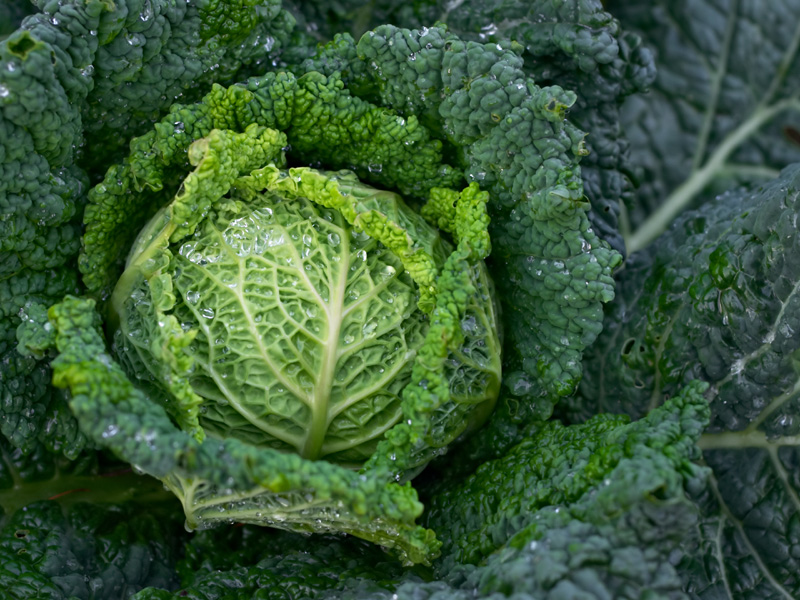cabbage: (0, 1, 798, 598)
